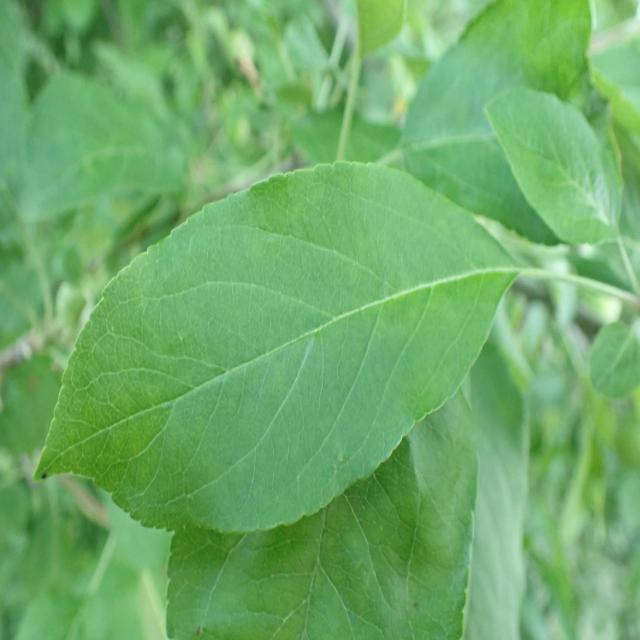healthy: (34, 160, 520, 536), (166, 385, 479, 640), (399, 0, 596, 246), (484, 86, 624, 249)
